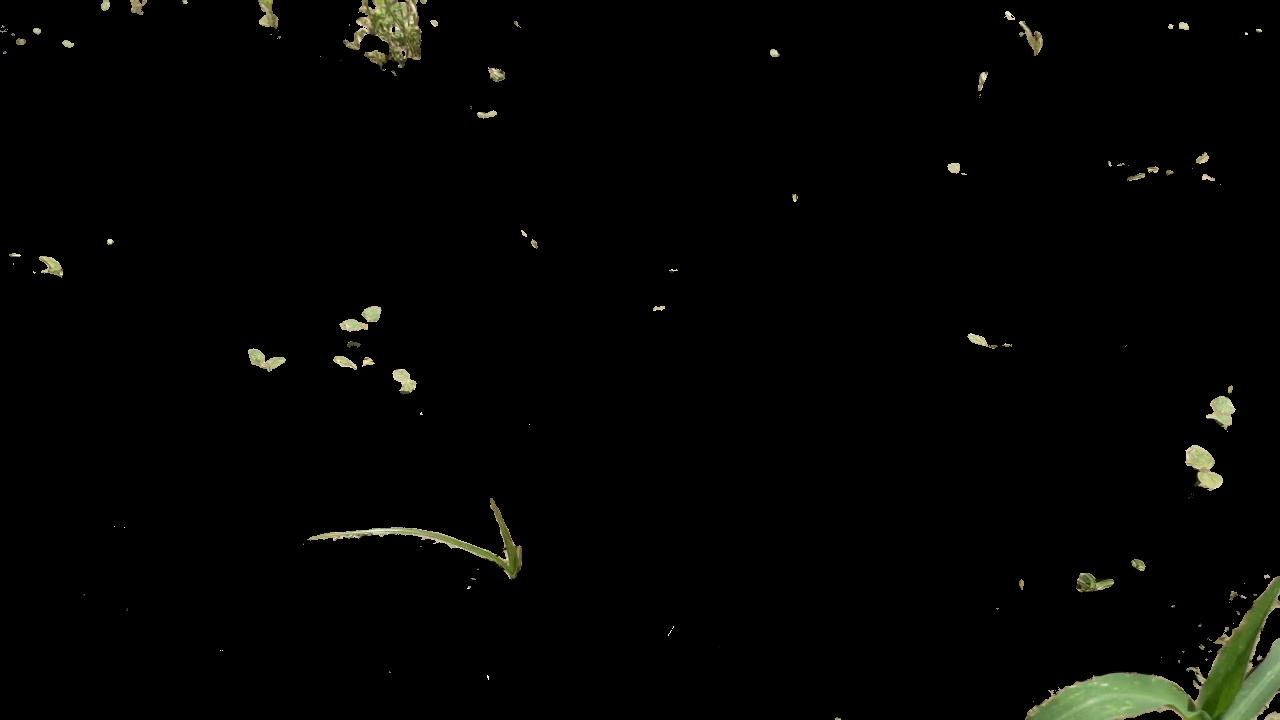crop: (1019, 585, 1280, 720), (348, 1, 423, 77)
weed: (309, 498, 525, 575), (1176, 439, 1226, 495), (999, 11, 1052, 59), (238, 339, 293, 379), (1208, 379, 1241, 439), (1069, 565, 1119, 601), (965, 325, 1016, 358), (332, 307, 391, 335), (248, 1, 288, 32), (328, 351, 373, 375), (28, 249, 65, 275), (1196, 149, 1222, 184), (392, 368, 421, 397), (481, 64, 508, 88), (943, 161, 966, 175)
